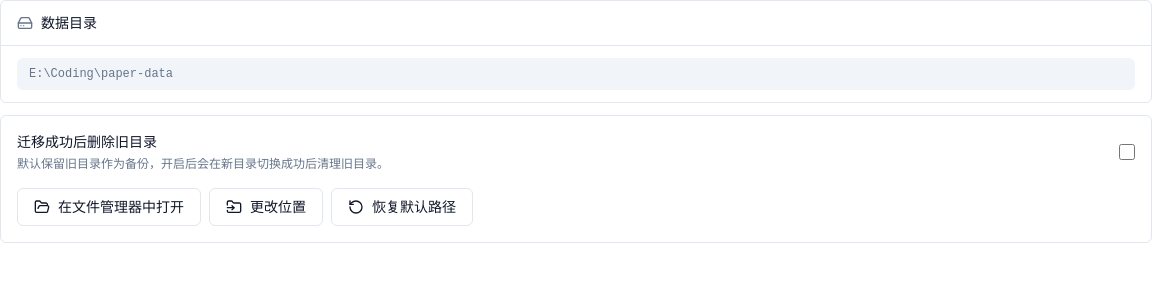
Test: DataDirSection › shows a localized error when the system rejects opening the directory
Click the button "在文件管理器中打开" at (109, 207), box [17,188,201,226]
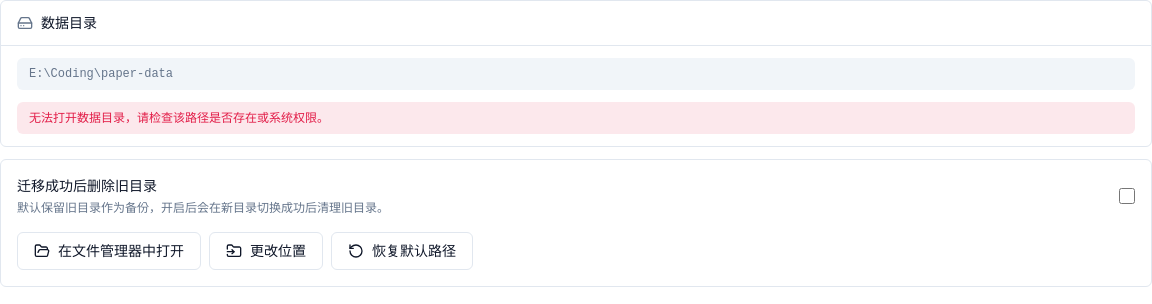
Now the message shows "无法打开数据目录", box [29,110,329,125]
